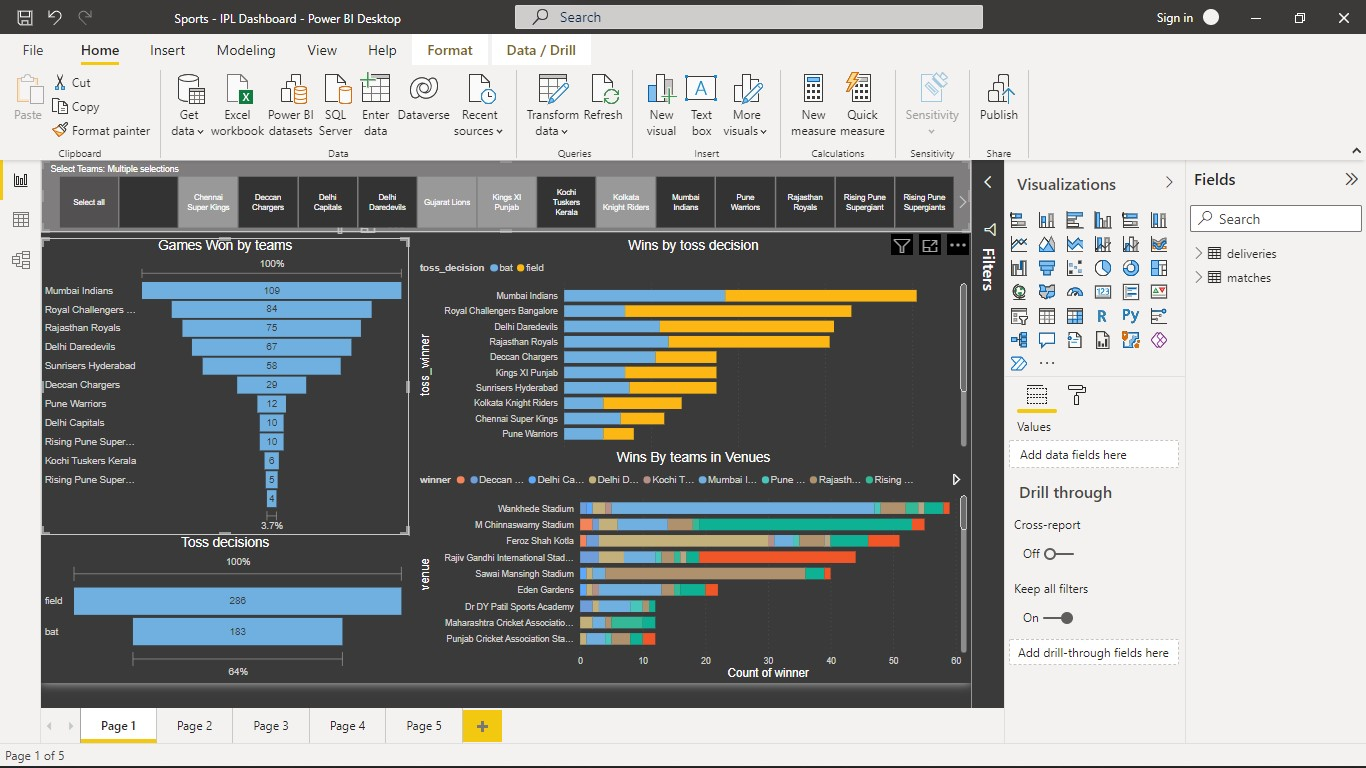

The page's visual inventory and layout, read from the dashboard file:
{"tool":"powerbi","page":{"name":"Page 1","canvas":[1280,720],"ordinal":0},"visuals":[{"type":"funnel","title":"Games Won by teams","fields":{"Category":["matches.winner"],"Y":["CountNonNull(matches.date)"]},"box":[0,106.8,506.5,409.8],"z":0},{"type":"funnel","title":"Toss decisions","fields":{"Category":["matches.toss_decision"],"Y":["CountNonNull(matches.toss_winner)"]},"box":[0,516.6,506.5,203.4],"z":1000},{"type":"barChart","title":"Wins by toss decision","fields":{"Category":["matches.toss_winner"],"Y":["CountNonNull(matches.winner)"],"Series":["matches.toss_decision"]},"box":[516.6,106.8,763.3,327.5],"z":2000},{"type":"barChart","title":"Wins By teams in Venues","fields":{"Category":["matches.venue"],"Y":["CountNonNull(matches.winner)"],"Series":["matches.winner"]},"box":[516.6,399.7,763.3,320.3],"z":3000},{"type":"slicer","fields":{"Values":["matches.winner"]},"box":[0,0,1279.8,99.6],"z":4000}]}

Visuals, with their boxes on the page's 1280x720 design canvas (x1, y1, x2, y2). These are canvas units, not pixel positions in the 1366x768 screenshot, which may show the page scaled, cropped or inside an application window:
"Games Won by teams" funnel: Rect(0, 107, 506, 517)
"Toss decisions" funnel: Rect(0, 517, 506, 720)
"Wins by toss decision" barChart: Rect(517, 107, 1280, 434)
"Wins By teams in Venues" barChart: Rect(517, 400, 1280, 720)
slicer - matches.winner: Rect(0, 0, 1280, 100)
